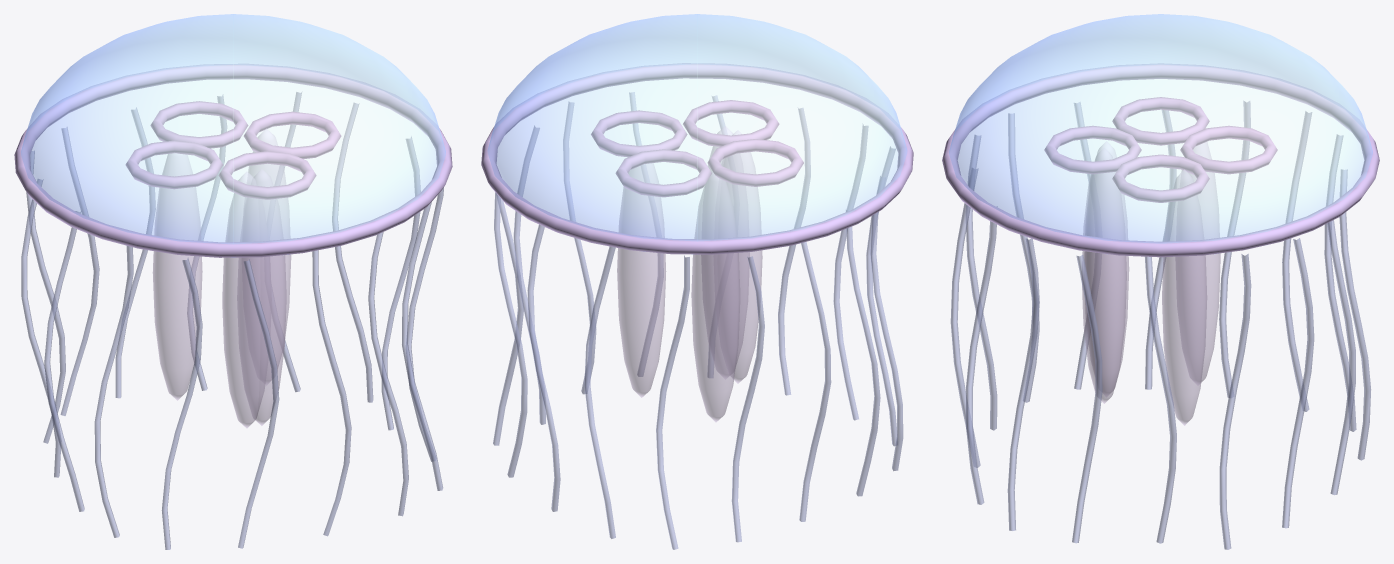
Rendered from jellyfish.glb.
3 views of the same model, side by side, from view 1: azimuth 30°, elevation 25°; view 2: azimuth 150°, elevation 25°; view 3: azimuth 270°, elevation 25° (orthographic).
Visible parts, largest first — view 1: skin, accent (×21), organ (×4); view 2: skin, accent (×20), organ (×4); view 3: skin, accent (×21), organ (×4).
Boxes of the visible parts, x1=… form: skin: x1=21, y1=14, x2=445, y2=257; accent (×21): x1=14, y1=64, x2=452, y2=549; organ (×4): x1=125, y1=101, x2=341, y2=199; skin: x1=487, y1=14, x2=907, y2=254; accent (×20): x1=481, y1=63, x2=913, y2=549; organ (×4): x1=591, y1=100, x2=803, y2=197; skin: x1=949, y1=14, x2=1372, y2=254; accent (×21): x1=942, y1=63, x2=1379, y2=549; organ (×4): x1=1044, y1=97, x2=1277, y2=202.
Size of the model in its own units: 3.09 by 3.29 by 3.09.
